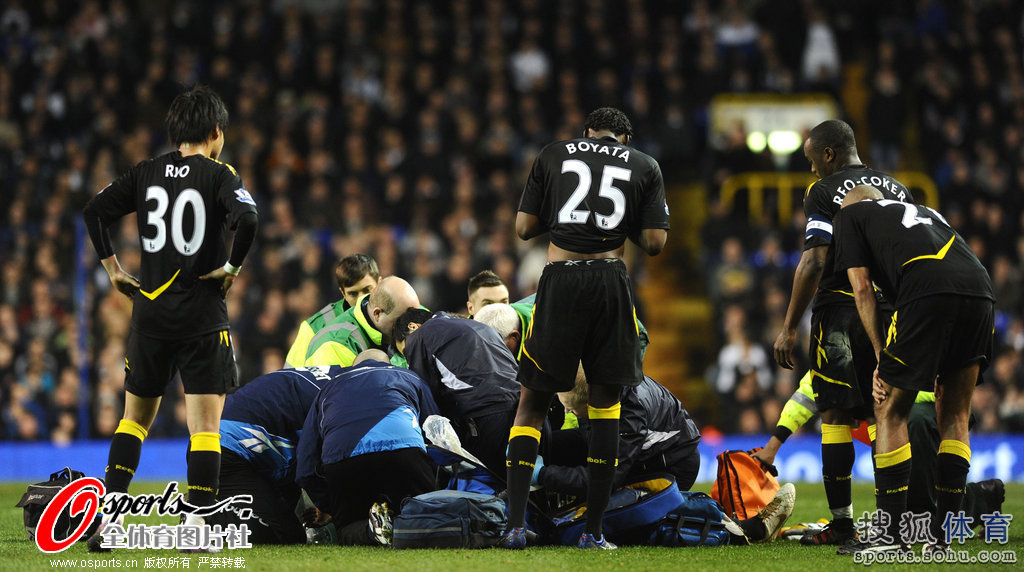10+: (13, 1, 1023, 546)
